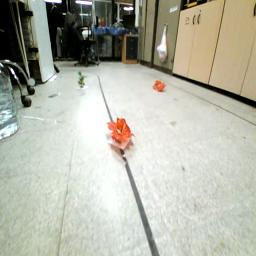herb: (78, 71, 88, 88)
wild: (107, 116, 136, 142), (153, 80, 169, 93)
